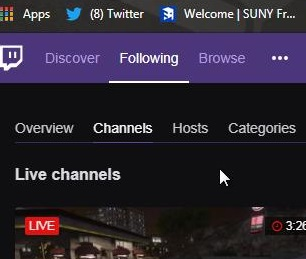cursor: (216, 165, 232, 191)
